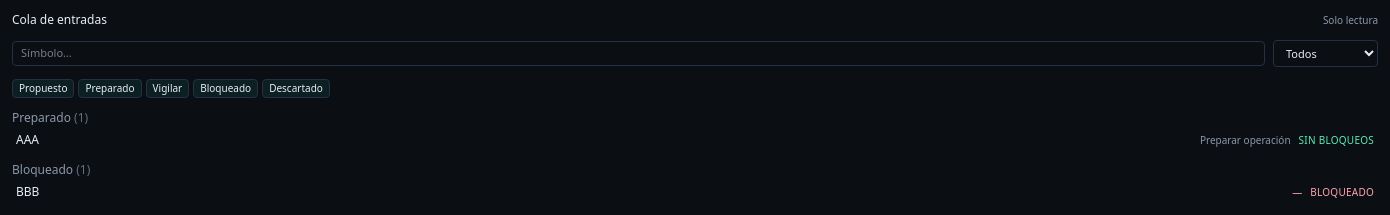
Test case: MesaEntryQueuePanel P4.2 filters › filters by gate VETO
The width and height of the screenshot is (1390, 215).
Expected: the text "AAA" is shown, [16,132,39,148]
Select "Bloqueado" in the dropdown with test id "mesa-entry-queue-gate" at (1326, 54), box [1273,40,1378,67]
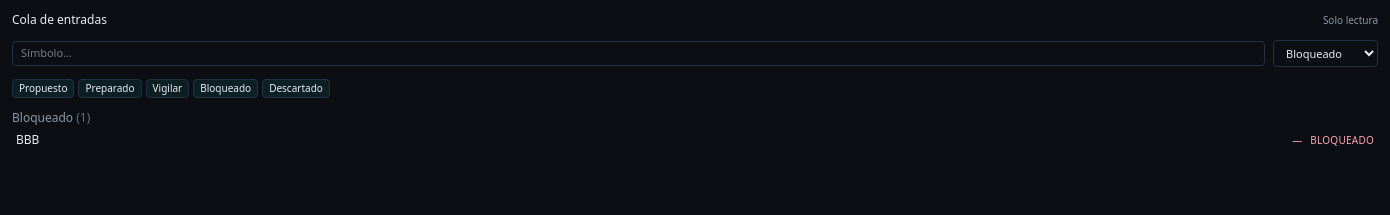
Expected: the text "BBB" is shown, [16,132,39,148]
Expected: the text "AAA" is gone
